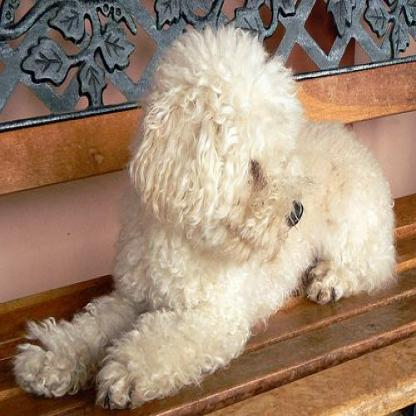toy_poodle: (12, 21, 392, 408)
